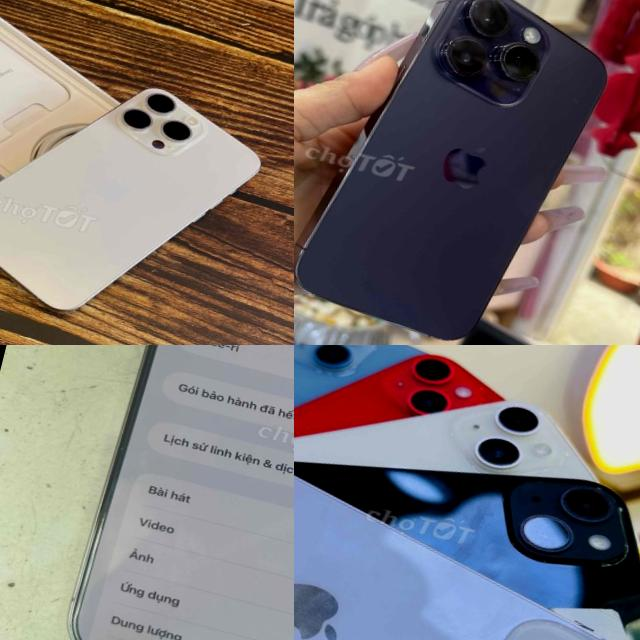gen_14: (294, 0, 614, 345), (294, 477, 600, 640)
gen_15: (0, 37, 283, 345), (47, 345, 294, 640)
